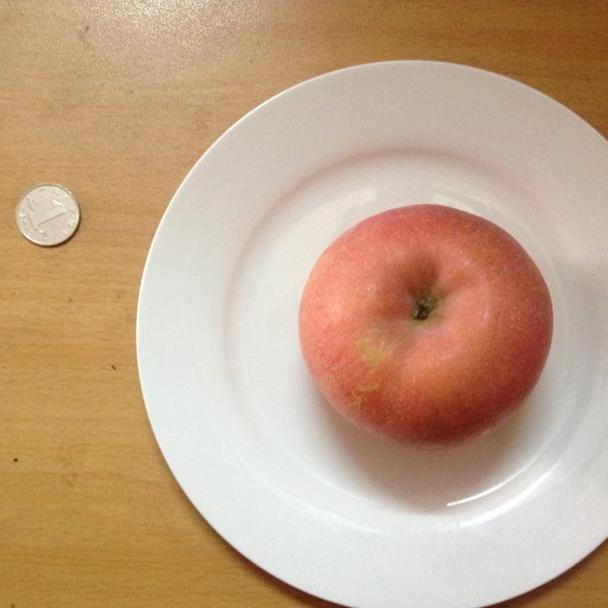apple: (295, 201, 563, 453)
